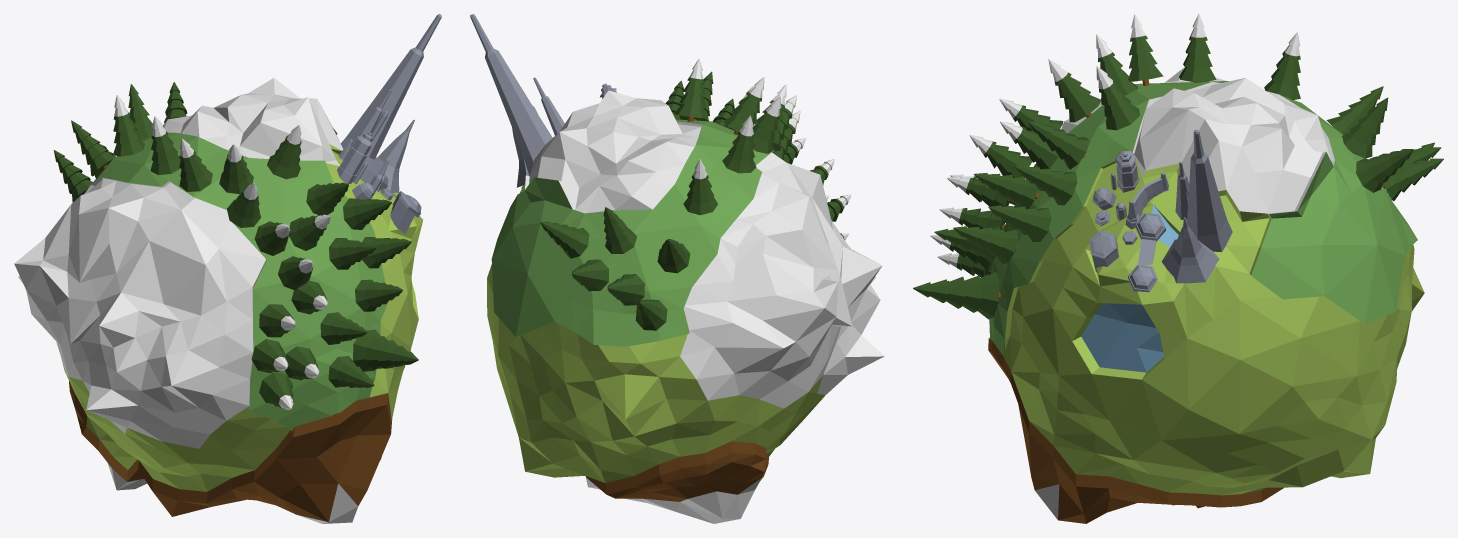
Rendered from alderaan_zoom.dae.
The picture shows the model from 3 angles, left to right: view 1: azimuth 30°, elevation 25°; view 2: azimuth 150°, elevation 25°; view 3: azimuth 270°, elevation 25°; orthographic projection. The views are drawn at different scales.
Visible parts, largest first — view 1: kamino; view 2: kamino; view 3: kamino.
Boxes of the visible parts, x1,y1,x2,y2 form: kamino: [14, 14, 441, 523]; kamino: [470, 14, 884, 523]; kamino: [913, 14, 1443, 523].
Size of the model in its own units: 7.4 by 7.82 by 7.87.
